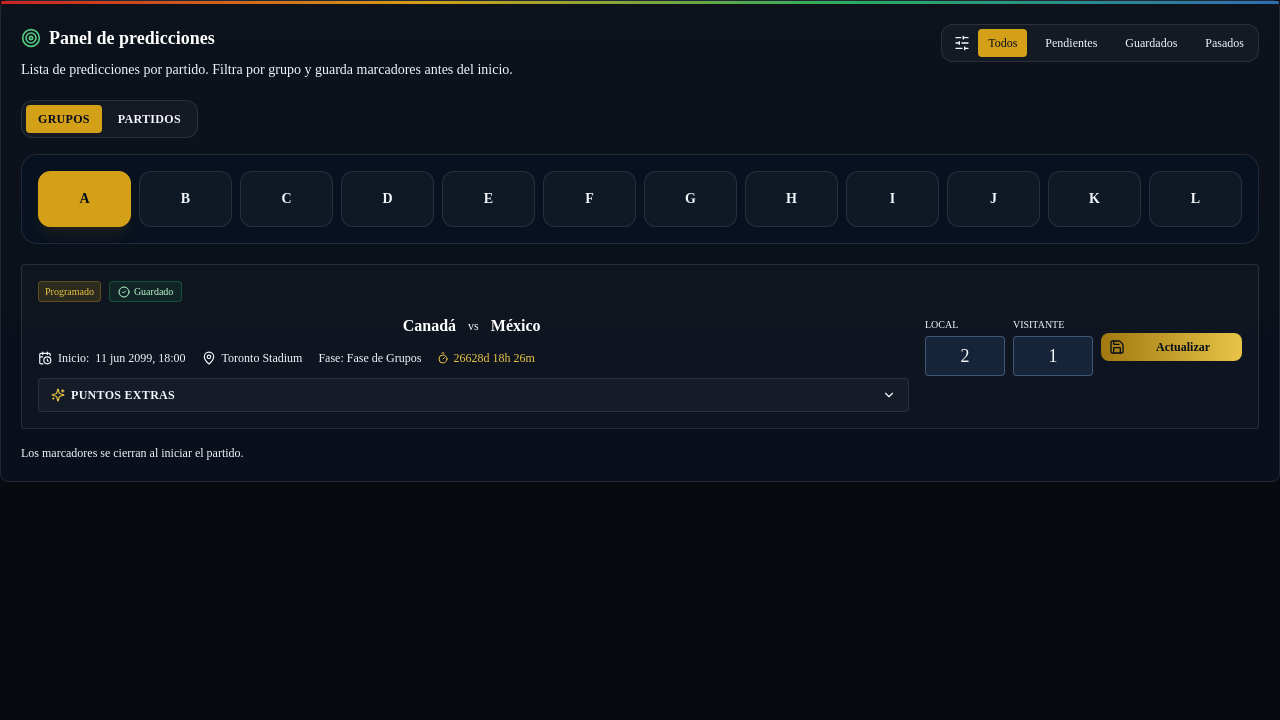
PredictionPanel › renders all extra controls once the Puntos extras dropdown is opened
expect the text "Canadá" is shown: met, box top-left (403, 317), bottom-right (456, 334)
expect the dropdown labelled "Primer equipo en anotar" is not shown: met
Click the button "Puntos extras".
click(123, 395)  # box top-left (39, 379), bottom-right (908, 411)
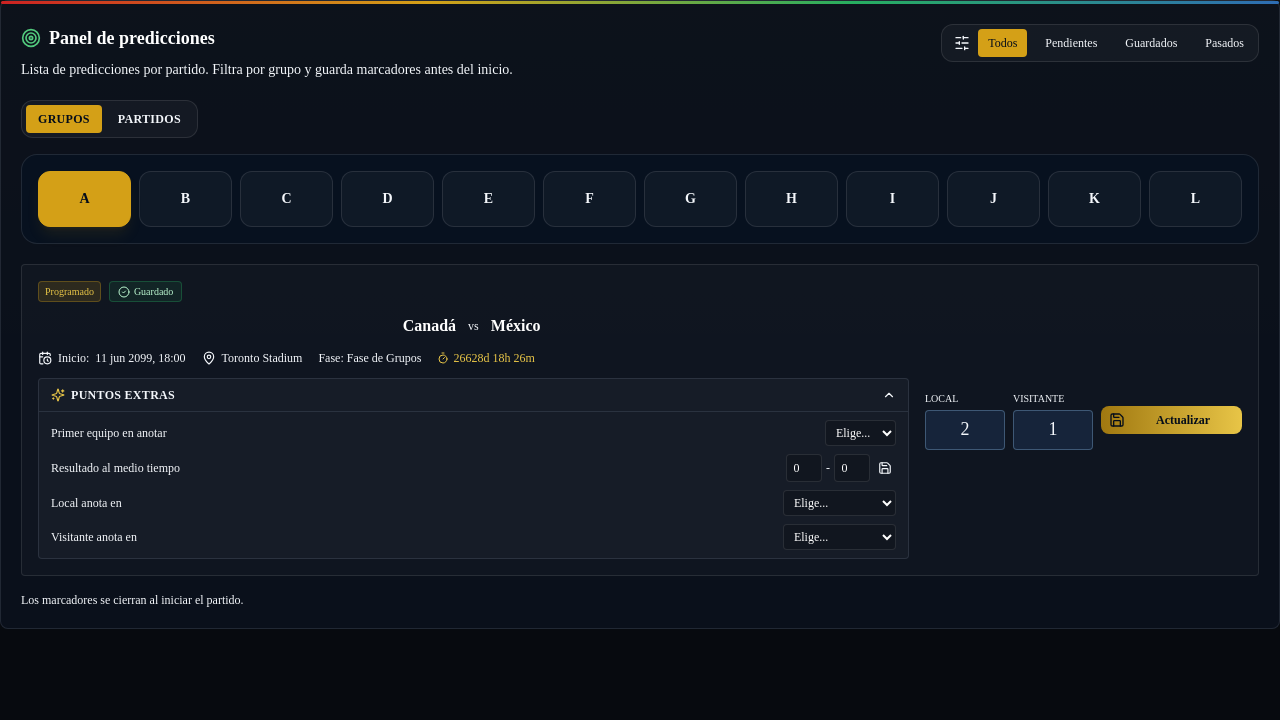
expect the dropdown named "Primer equipo en anotar" is shown: met, box top-left (825, 420), bottom-right (896, 446)
expect the dropdown named "Local anota en" is shown: met, box top-left (783, 490), bottom-right (896, 516)
expect the dropdown named "Visitante anota en" is shown: met, box top-left (783, 524), bottom-right (896, 550)
